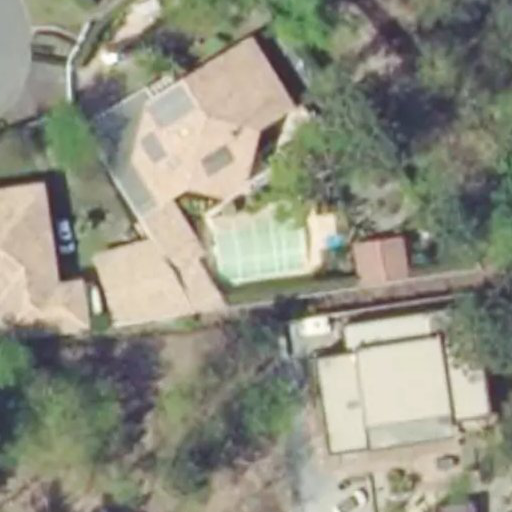pool: (215, 216, 312, 282)
